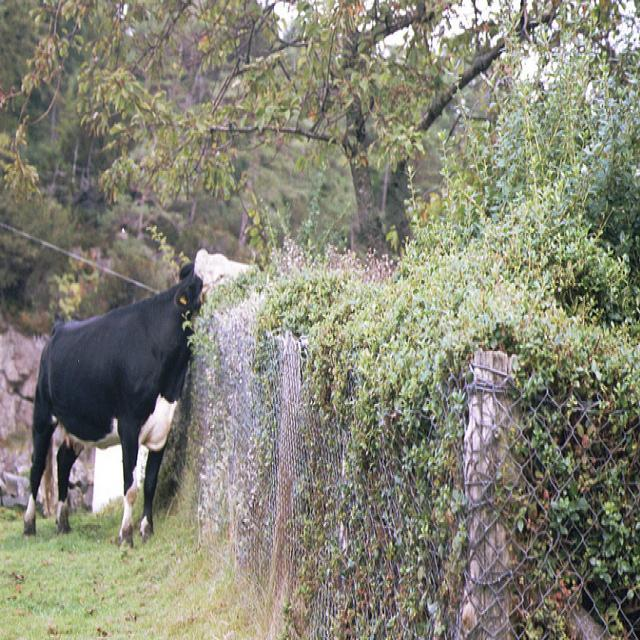cow: (17, 250, 210, 552)
